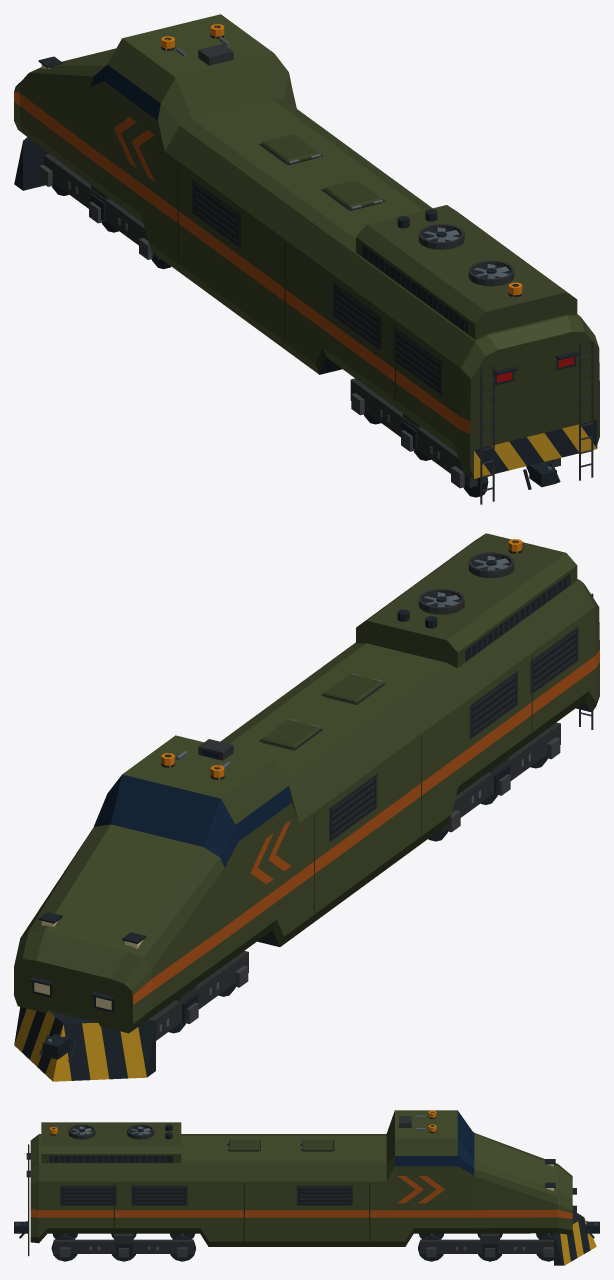
The model's file is locomotive.glb.
The picture shows the model from 3 angles, top to bottom: view 1: azimuth 30°, elevation 25°; view 2: azimuth 150°, elevation 25°; view 3: azimuth 270°, elevation 25°; orthographic projection. The views are drawn at different scales.
Parts seen in each view (by area): view 1: locomotive (×2); view 2: locomotive (×2); view 3: locomotive (×2).
Boxes of the visible parts, x1,y1,x2,y2 form: locomotive (×2): (14,14,599,504); locomotive (×2): (14,533,599,1081); locomotive (×2): (14,1110,599,1265).
Bounding box in the file's own units: 8.88 × 13.95 × 56.
